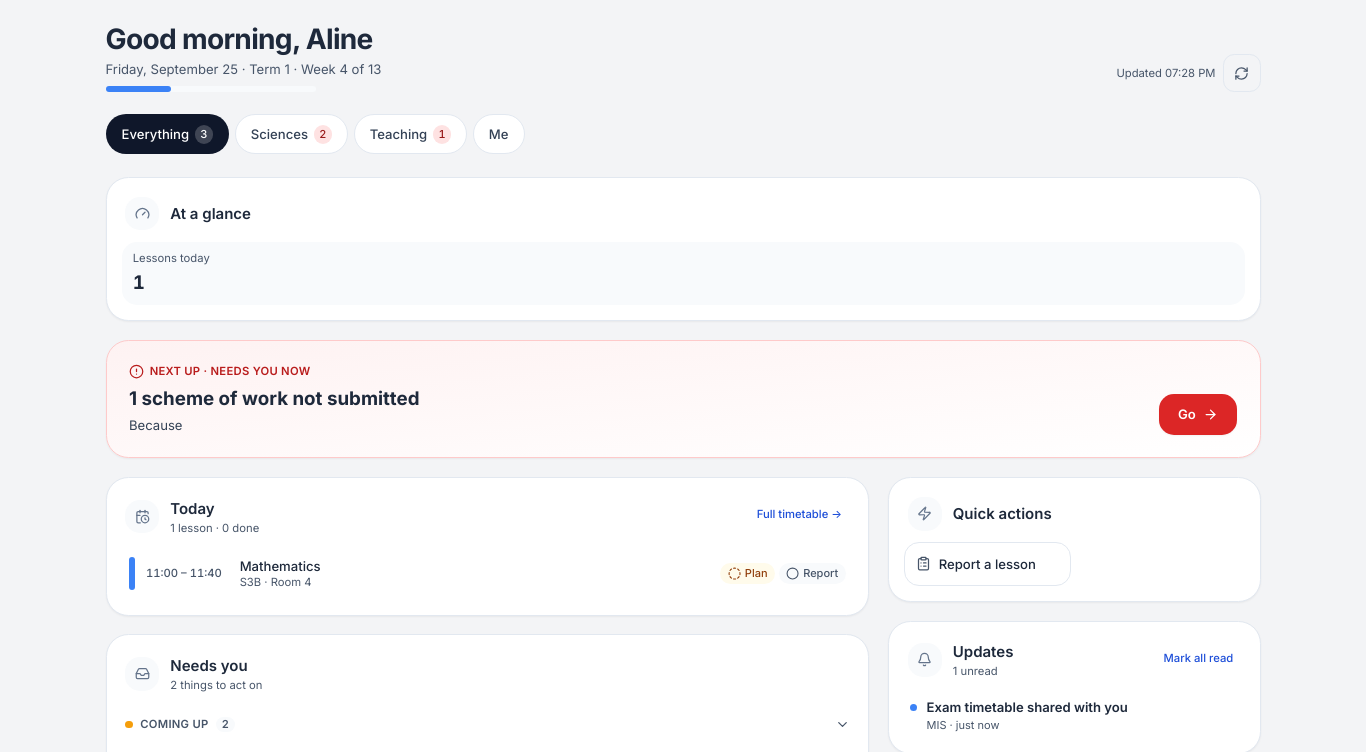
it: Home › focuses on one position when a lens is chosen
The width and height of the screenshot is (1366, 752).
expect the element named "Focus" is shown: met, box [106,114,524,154]
Click the button "Sciences 2". click: (291, 134)
box: [235,114,348,154]
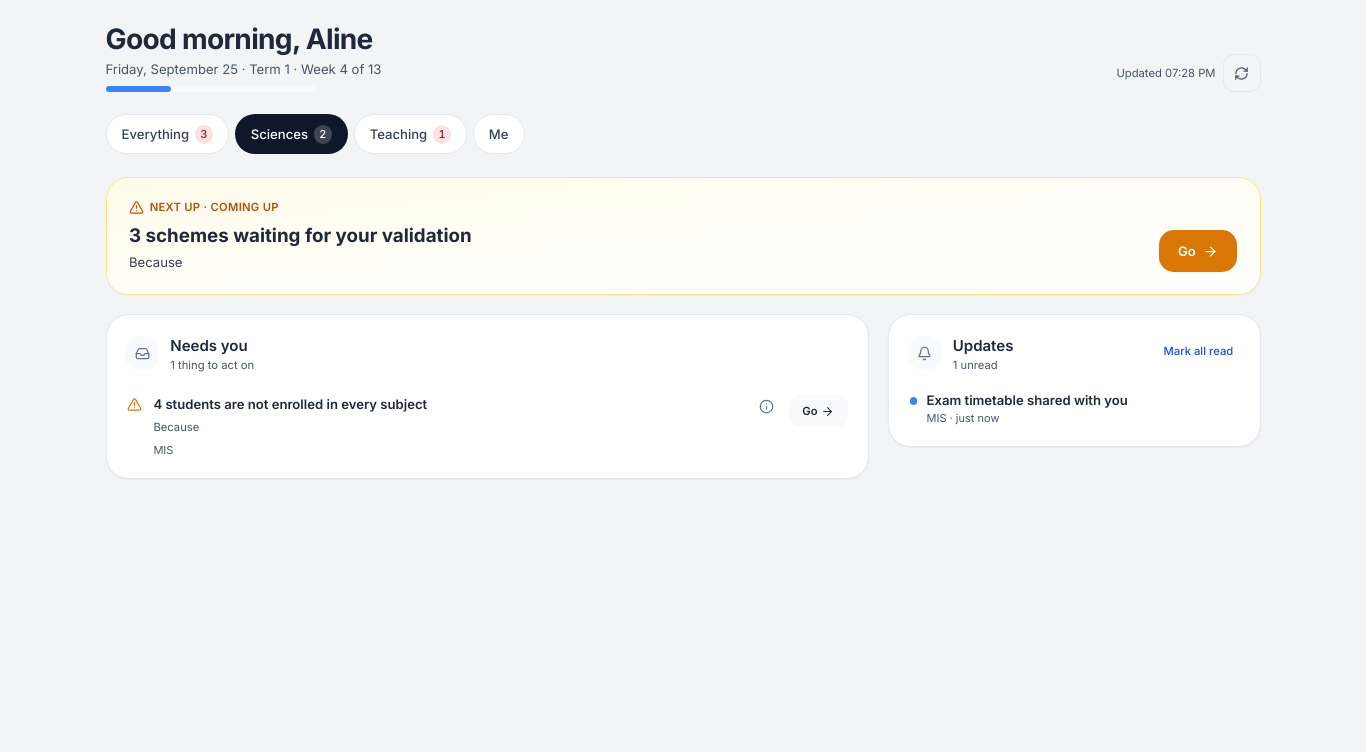
expect the number of headings "3 schemes waiting for your validation" is 1: met, box [129,223,472,249]
expect the heading "1 scheme of work not submitted" is gone: met
